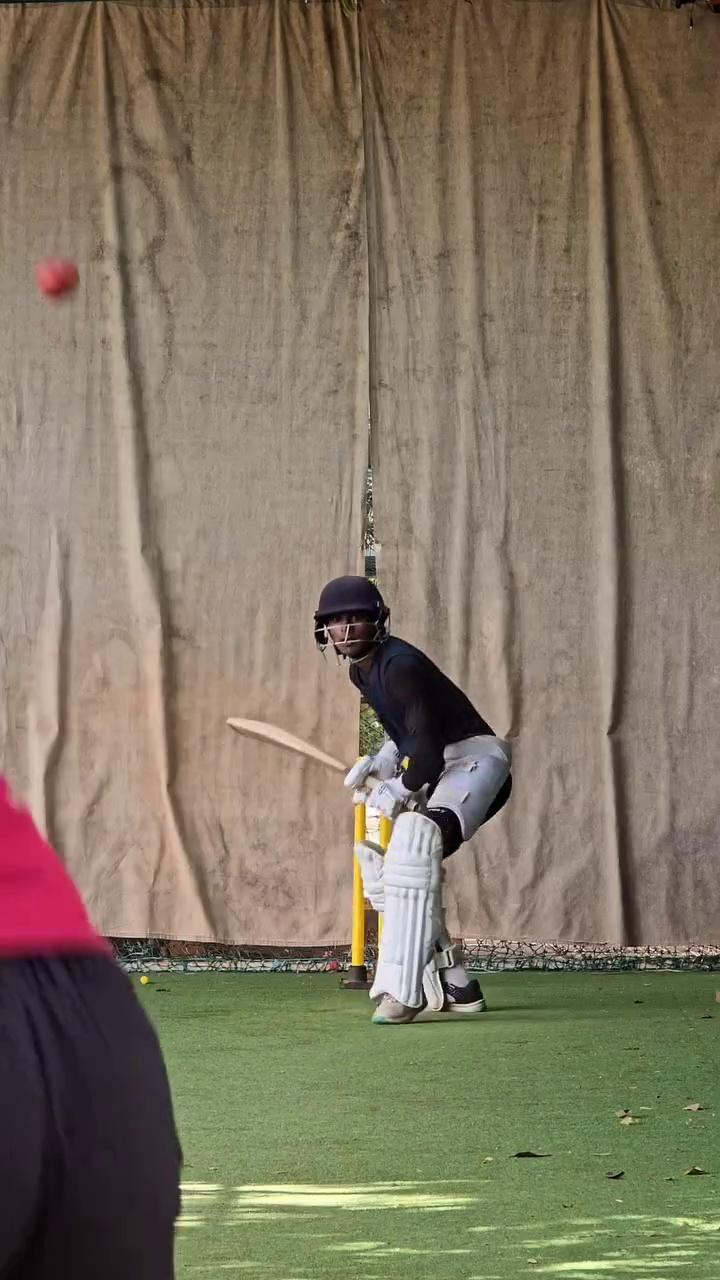bat: (220, 703, 351, 789)
